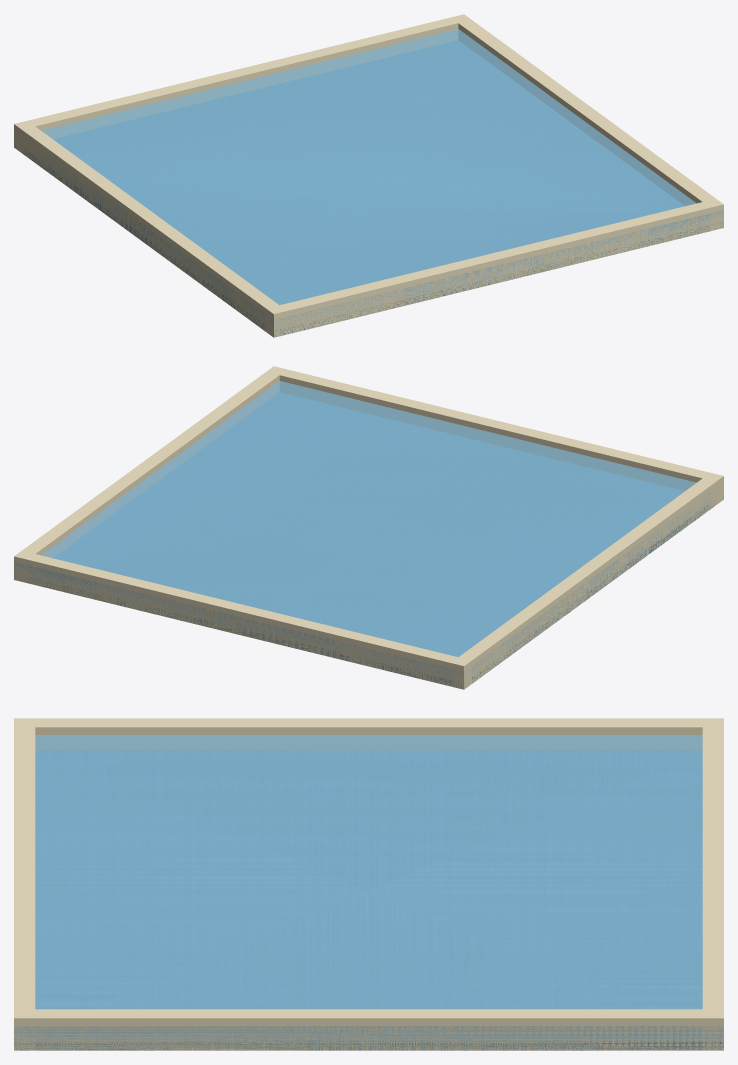
Rendered from pond_water.glb.
3 renders of one model, top to bottom at view 1: azimuth 30°, elevation 25°; view 2: azimuth 150°, elevation 25°; view 3: azimuth 270°, elevation 25°, orthographic. The views are drawn at different scales.
Parts seen in each view (by area): view 1: water, rim; view 2: water, rim; view 3: water, rim.
Boxes of the visible parts, x1=… form: water: x1=14, y1=29, x2=723, y2=336; rim: x1=14, y1=14, x2=723, y2=337; water: x1=14, y1=381, x2=723, y2=688; rim: x1=14, y1=366, x2=723, y2=689; water: x1=14, y1=735, x2=723, y2=1050; rim: x1=14, y1=718, x2=723, y2=1050.
Bounding box in the file's own units: 1 × 0.05 × 1.
